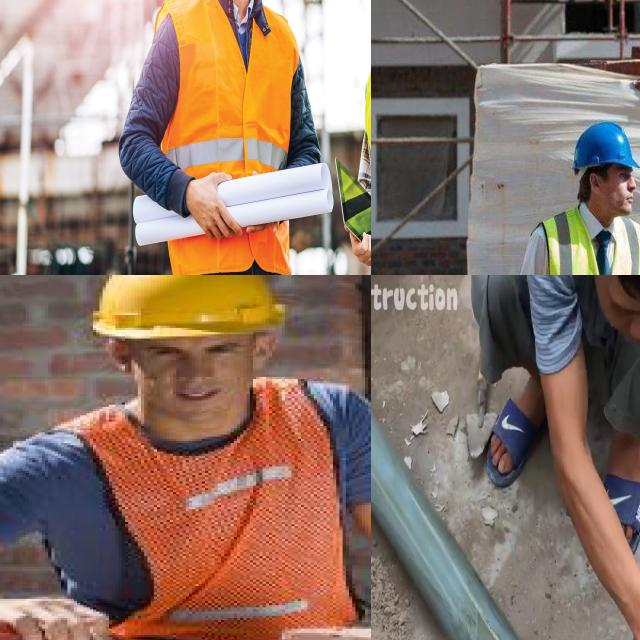No_Ear-Protection: (104, 337, 136, 372), (252, 335, 276, 371)
No_Glasses: (140, 338, 250, 359)
Sandals: (487, 380, 543, 490)
face_nomask: (135, 369, 252, 422), (605, 166, 638, 221)
hand_noglove: (180, 167, 245, 249), (0, 598, 109, 640), (347, 227, 371, 268)
head_helmet: (77, 275, 296, 343), (561, 114, 640, 178)
person: (120, 0, 328, 275), (520, 118, 640, 275)
vest: (138, 0, 315, 272), (540, 203, 640, 275)
